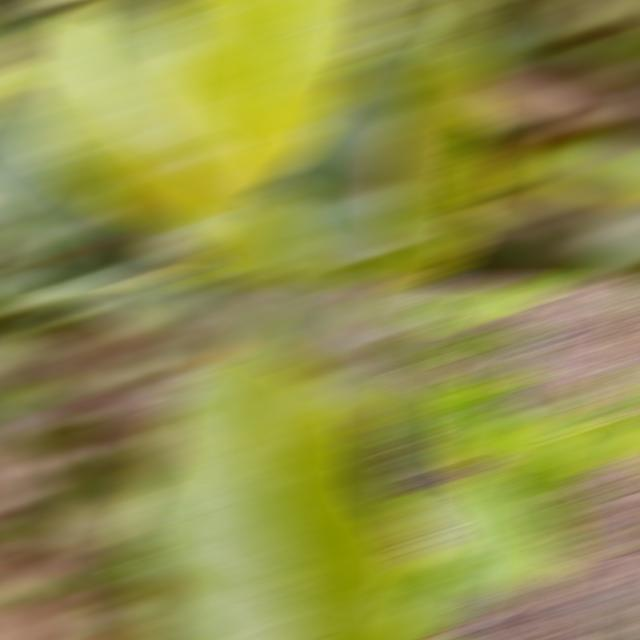Leaf: (123, 322, 414, 636), (5, 9, 251, 218), (167, 4, 385, 197), (392, 4, 486, 278), (408, 487, 555, 598), (5, 284, 238, 341), (480, 464, 574, 597), (267, 194, 414, 262), (308, 88, 406, 188), (394, 379, 505, 459), (201, 203, 314, 278), (506, 138, 640, 198), (0, 120, 56, 220), (410, 562, 492, 630), (67, 476, 142, 549), (30, 160, 117, 219), (516, 408, 582, 472), (485, 403, 549, 468), (574, 417, 640, 468), (392, 555, 452, 610), (533, 434, 604, 477), (415, 292, 505, 325), (0, 385, 83, 417), (467, 396, 525, 429), (392, 595, 438, 636), (454, 381, 539, 402), (0, 344, 66, 369), (479, 284, 537, 312), (392, 285, 439, 319), (578, 375, 640, 398), (500, 284, 553, 309), (392, 331, 454, 351), (392, 546, 431, 577), (433, 339, 491, 354), (611, 418, 640, 444), (0, 74, 33, 95), (449, 375, 496, 386)
